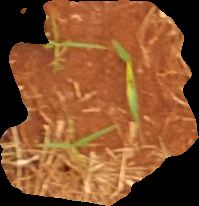soil: (1, 1, 199, 205)
